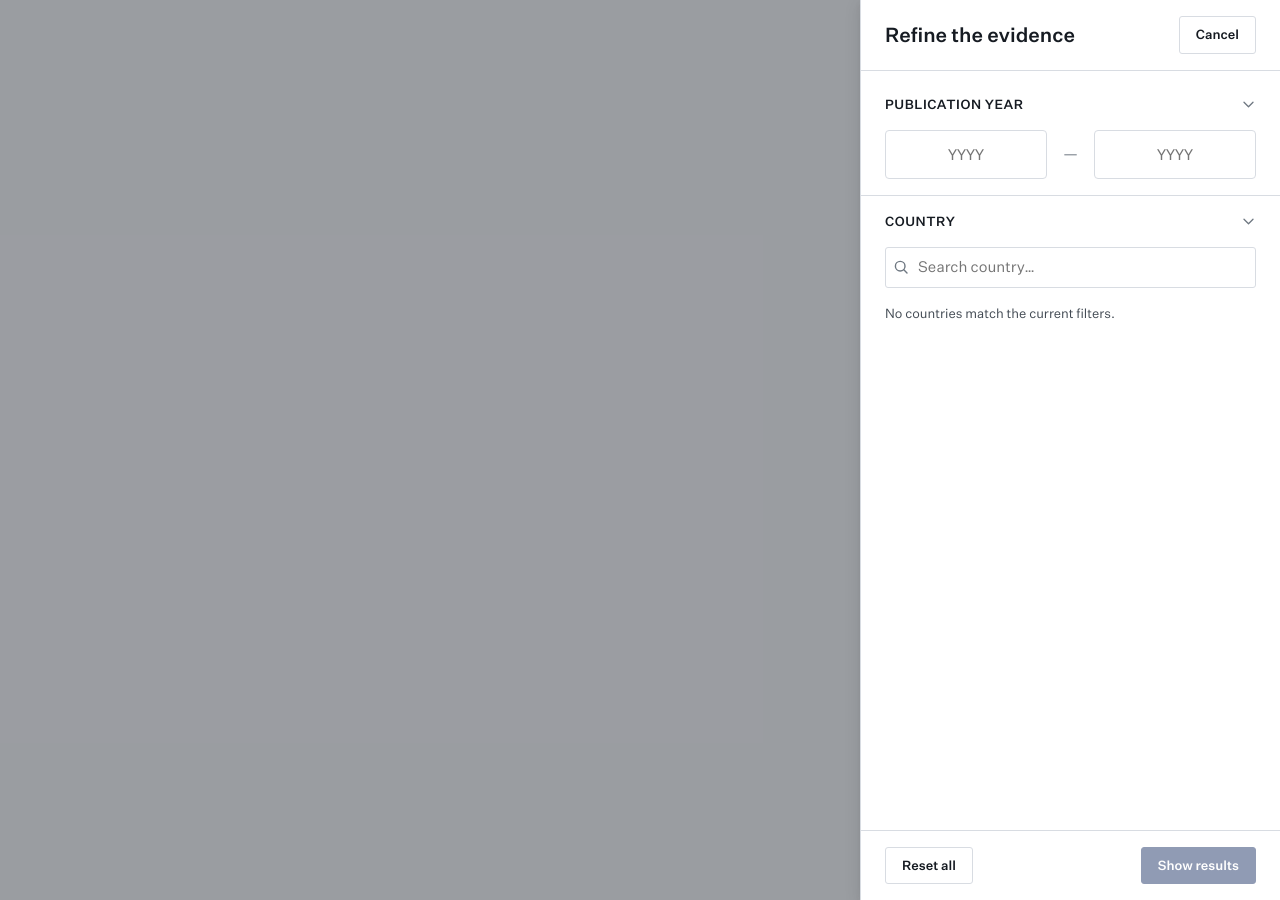
FilterDrawer › year range integration › non-numeric end year flags an error and blocks Show results
The width and height of the screenshot is (1280, 900).
Type "abc" into the field named "End year" at (1175, 154), box [1094,130,1256,178]
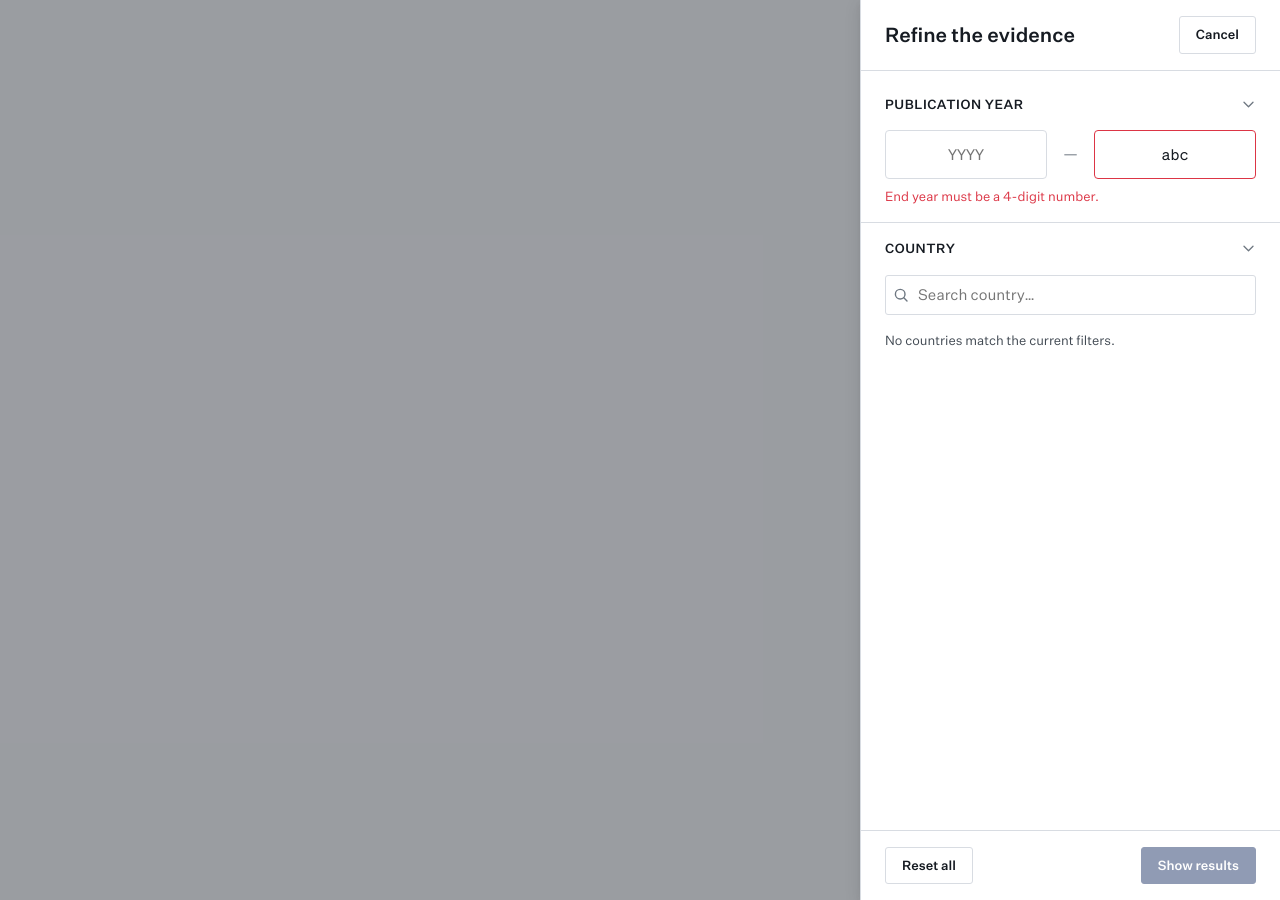
Expected: the button "Show results" is disabled, [1141,846,1256,884]
Expected: the message shows "End year must be a 4-digit number", [885,188,1099,202]
